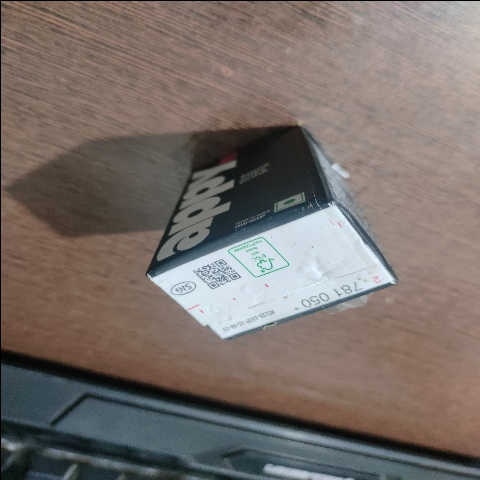appy: (134, 134, 399, 349)
